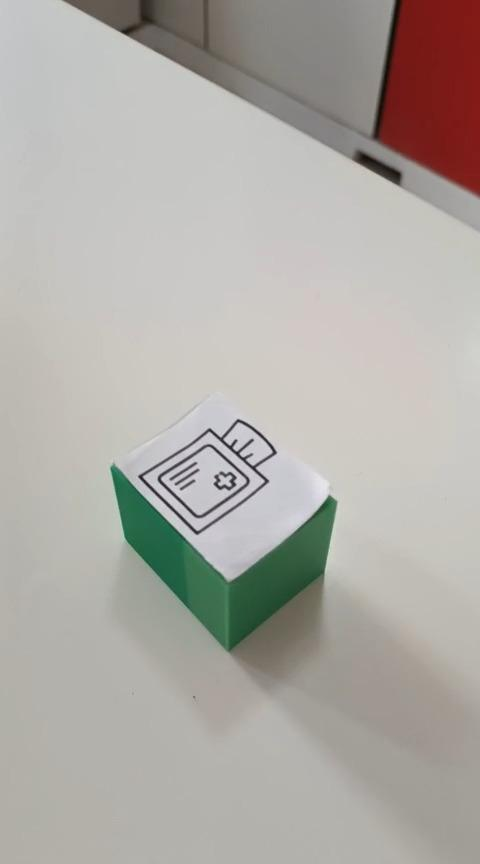Gauze: (109, 391, 338, 652)
